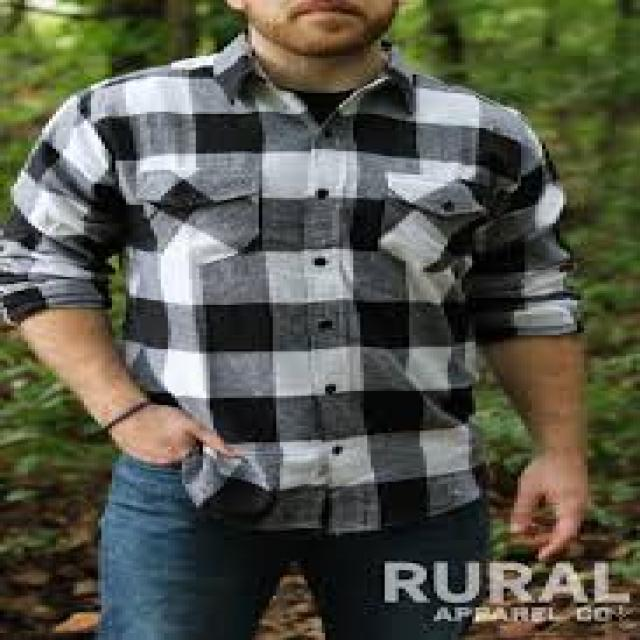plaid: (15, 54, 598, 534)
